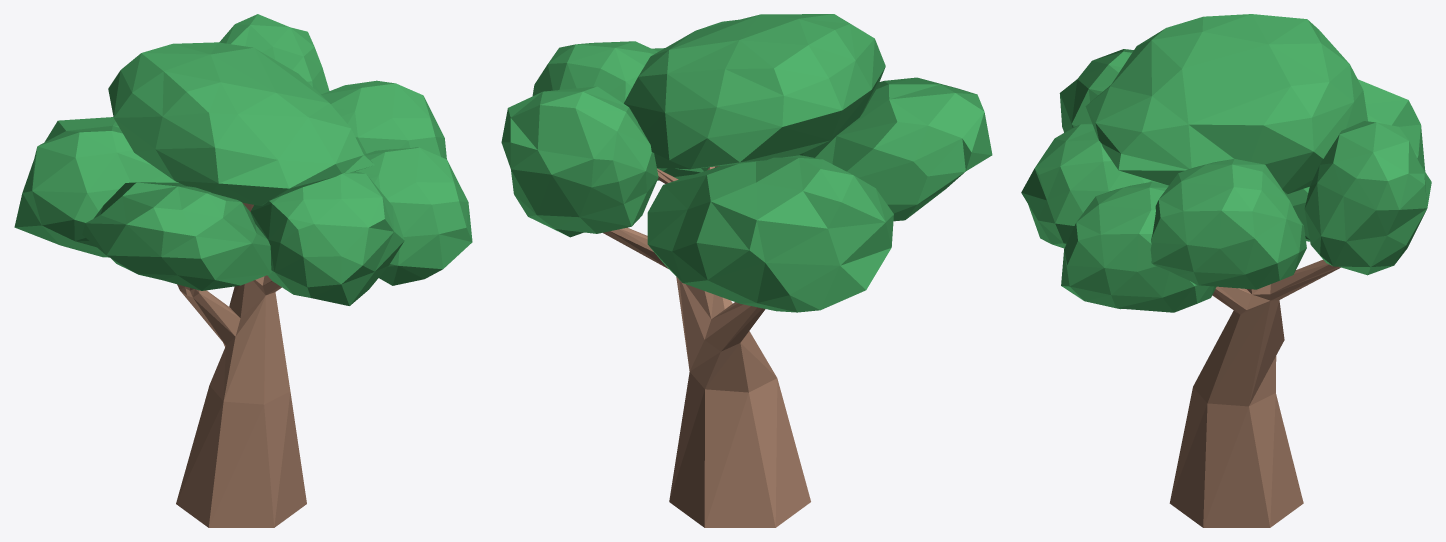
Rendered from tree.glb.
3 renders of one model, left to right at view 1: azimuth 30°, elevation 25°; view 2: azimuth 150°, elevation 25°; view 3: azimuth 270°, elevation 25°, orthographic. The views are drawn at different scales.
Parts seen in each view (by area): view 1: polySurface2, polySurface1; view 2: polySurface2, polySurface1; view 3: polySurface2, polySurface1.
Part boxes in pixels (x1=…): polySurface2: x1=14, y1=14, x2=472, y2=305; polySurface1: x1=176, y1=202, x2=306, y2=527; polySurface2: x1=501, y1=14, x2=992, y2=312; polySurface1: x1=603, y1=166, x2=810, y2=527; polySurface2: x1=1021, y1=14, x2=1431, y2=312; polySurface1: x1=1169, y1=259, x2=1340, y2=527.
Bounding box in the file's own units: 1.55 × 1.79 × 1.47.
